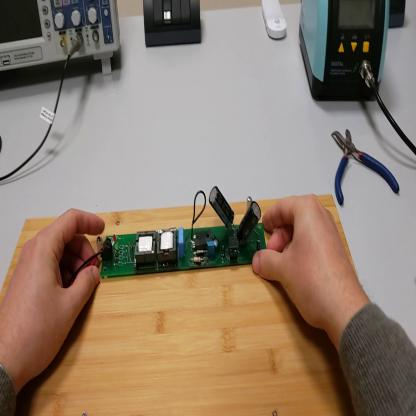hand: (4, 210, 104, 385), (254, 194, 357, 329)
high voltage board: (71, 184, 270, 285)
oscilloscope: (2, 3, 123, 81)
pliers: (330, 118, 403, 220)
socket: (389, 1, 407, 31)
welder station: (302, 2, 390, 105)
working area: (1, 194, 371, 416)
